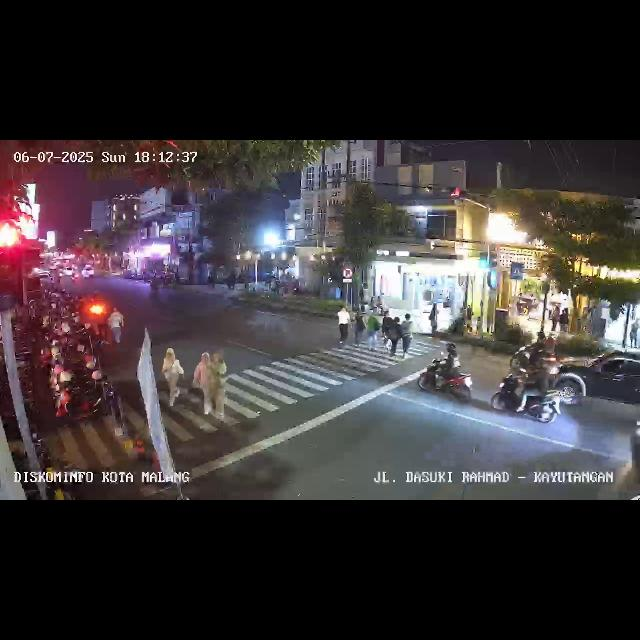car: (550, 352, 640, 424)
motorcycle: (490, 353, 568, 422), (416, 344, 474, 404)
person: (160, 345, 184, 417), (204, 351, 226, 421), (192, 352, 212, 414), (106, 308, 124, 347), (399, 312, 413, 356), (368, 309, 382, 349), (336, 306, 350, 344), (389, 317, 401, 359), (352, 309, 364, 345), (382, 311, 392, 349), (428, 302, 438, 336), (559, 305, 569, 333), (628, 320, 638, 348), (550, 302, 558, 334)
